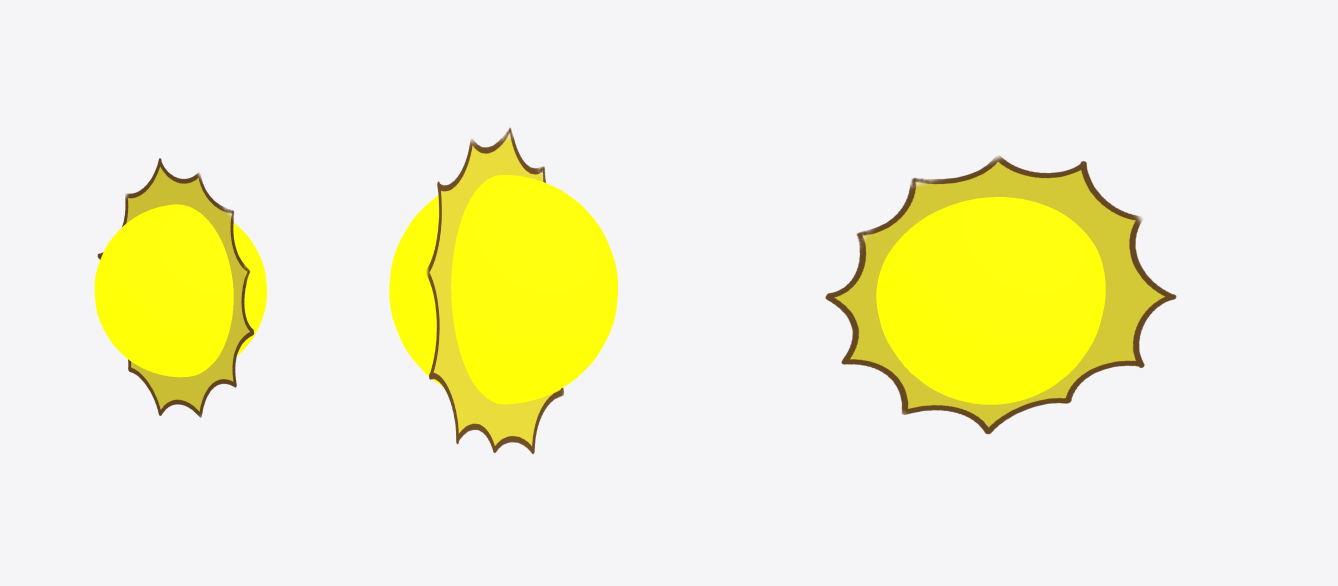
File: soleil.glb
3 renders of one model, left to right at view 1: azimuth 30°, elevation 25°; view 2: azimuth 150°, elevation 25°; view 3: azimuth 270°, elevation 25°, orthographic. The views are drawn at different scales.
Parts seen in each view (by area): view 1: Sphere.009, —Pngtree—cute cartoon sun with fried_6461132; view 2: Sphere.009, —Pngtree—cute cartoon sun with fried_6461132; view 3: Sphere.009, —Pngtree—cute cartoon sun with fried_6461132.
Part boxes in pixels (x1,y1,x2,y2): Sphere.009: (94, 204, 266, 377); —Pngtree—cute cartoon sun with fried_6461132: (97, 158, 253, 417); Sphere.009: (389, 175, 617, 404); —Pngtree—cute cartoon sun with fried_6461132: (426, 127, 563, 453); Sphere.009: (876, 197, 1105, 404); —Pngtree—cute cartoon sun with fried_6461132: (825, 156, 1176, 434).
Size of the model in its own units: 2.91 by 8.35 by 8.4.
Materials: 3 (1 with a texture image).
